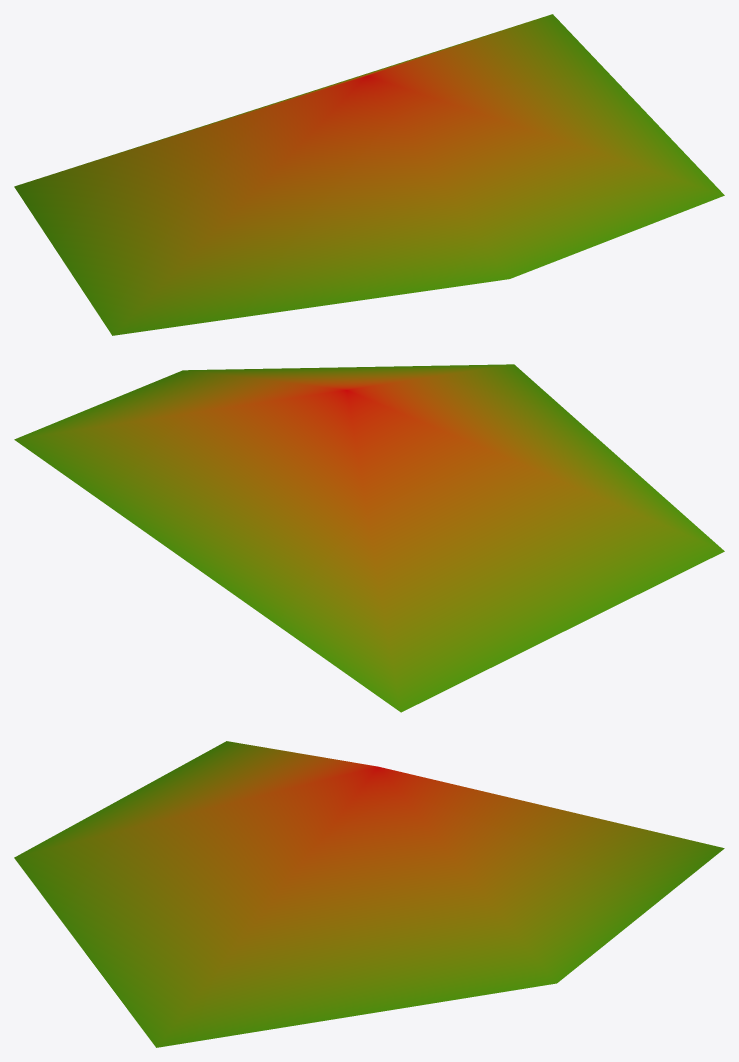
The model's file is Var1_LOD3.fbx.
3 renders of one model, top to bottom at view 1: azimuth 30°, elevation 25°; view 2: azimuth 150°, elevation 25°; view 3: azimuth 270°, elevation 25°, orthographic. The views are drawn at different scales.
Visible parts, largest first — view 1: _8ad0_Var1_LOD3; view 2: _8ad0_Var1_LOD3; view 3: _8ad0_Var1_LOD3.
Boxes of the visible parts, <box> form: _8ad0_Var1_LOD3: <box>14,14,724,335</box>; _8ad0_Var1_LOD3: <box>14,364,724,712</box>; _8ad0_Var1_LOD3: <box>14,741,724,1047</box>.
Size of the model in its own units: 27.07 by 7.54 by 24.6.
